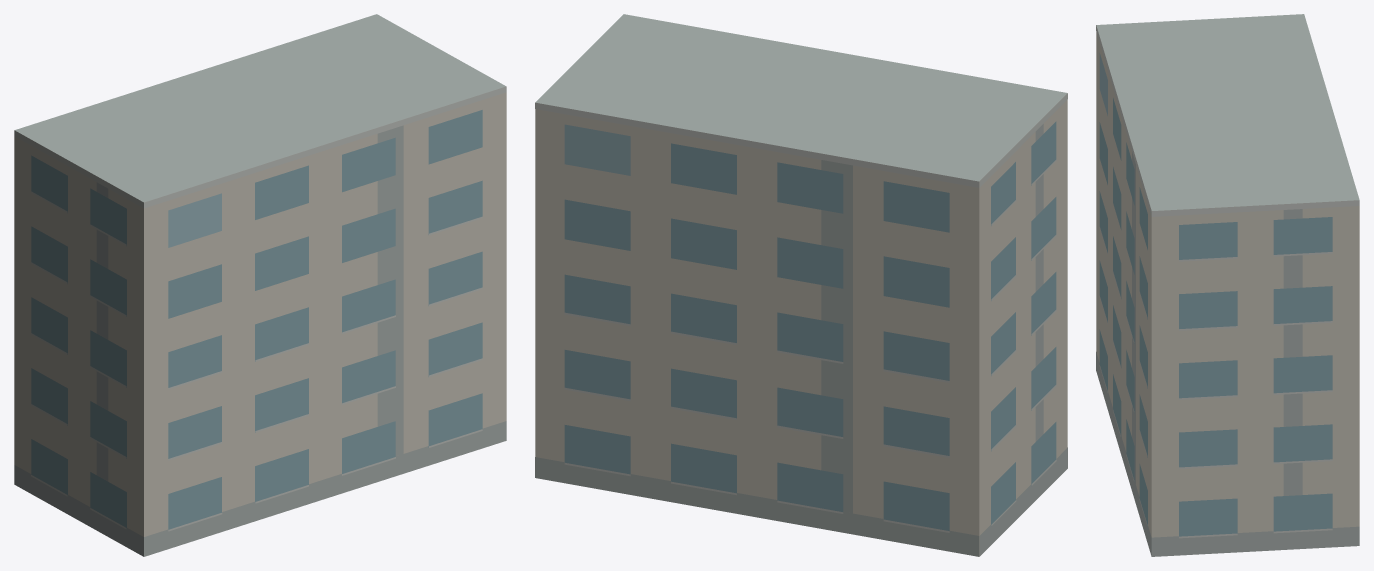
The model's file is survey-upis-32746706.glb.
The picture shows the model from 3 angles, left to right: view 1: azimuth 30°, elevation 25°; view 2: azimuth 150°, elevation 25°; view 3: azimuth 270°, elevation 25°; orthographic projection. The views are drawn at different scales.
Visible parts, largest first — view 1: survey-upis-32746706.tmp; view 2: survey-upis-32746706.tmp; view 3: survey-upis-32746706.tmp.
Part boxes in pixels (x1,y1,x2,y2): survey-upis-32746706.tmp: (14, 14, 506, 556); survey-upis-32746706.tmp: (535, 14, 1067, 556); survey-upis-32746706.tmp: (1096, 14, 1359, 556).
Size of the model in its own units: 17.62 by 14.4 by 9.95.
